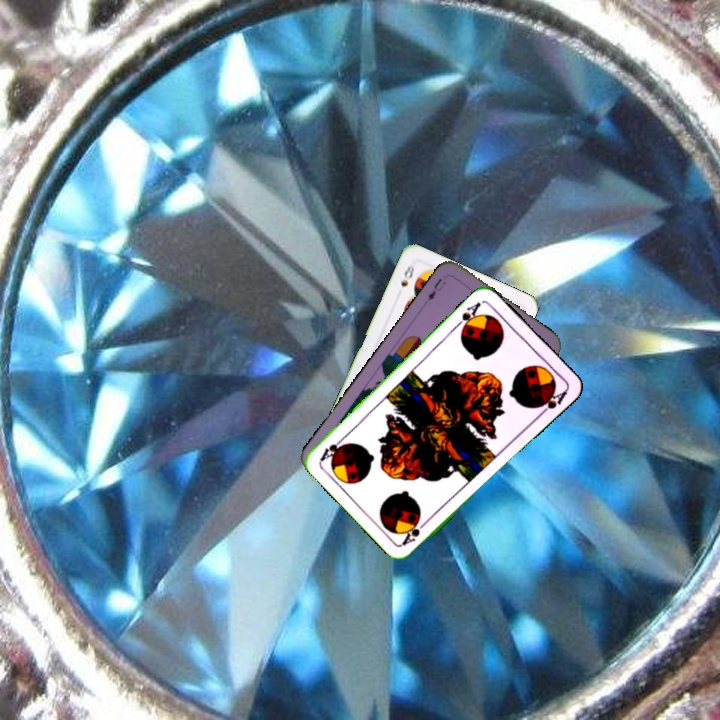EU: (424, 274, 449, 304)
S8: (397, 261, 418, 289)
SA: (452, 298, 484, 334), (398, 515, 432, 548)
